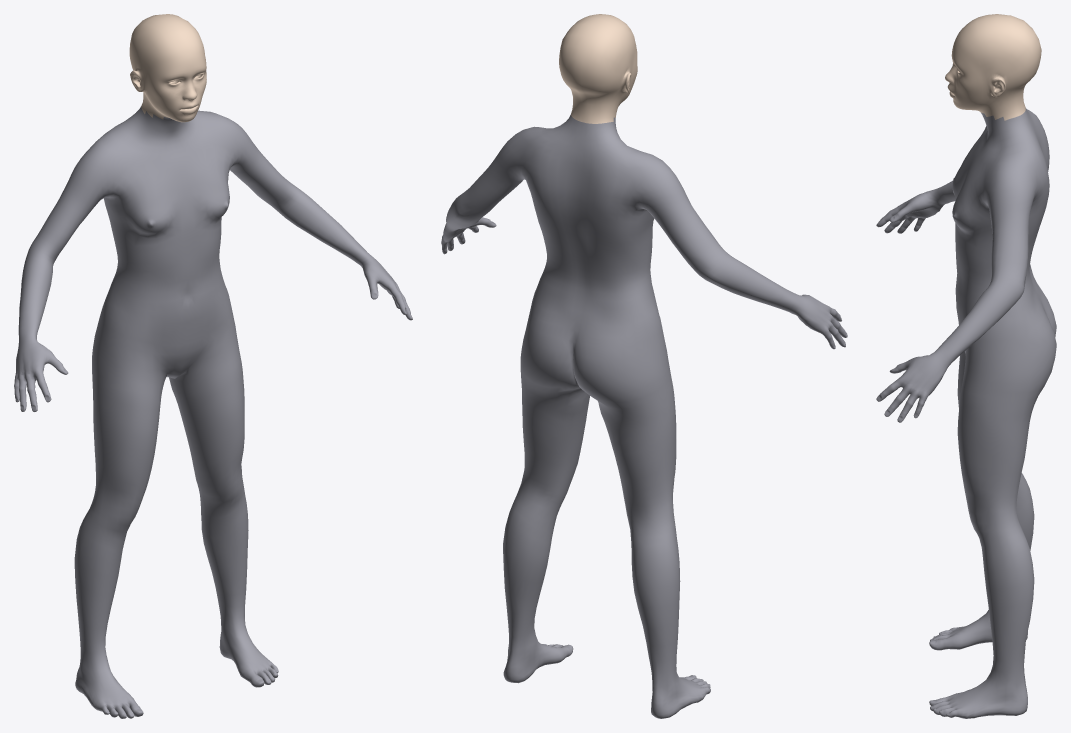
Rendered from npc_f_slim.glb.
The picture shows the model from 3 angles, left to right: view 1: azimuth 30°, elevation 25°; view 2: azimuth 150°, elevation 25°; view 3: azimuth 270°, elevation 25°; orthographic projection.
Parts seen in each view (by area): view 1: Human; view 2: Human; view 3: Human.
Boxes of the visible parts, box(x1,y1,x2,y2) form: Human: box(14, 14, 412, 718); Human: box(441, 14, 847, 718); Human: box(876, 14, 1056, 718).
Bounding box in the file's own units: 1.01 × 1.64 × 0.405.
